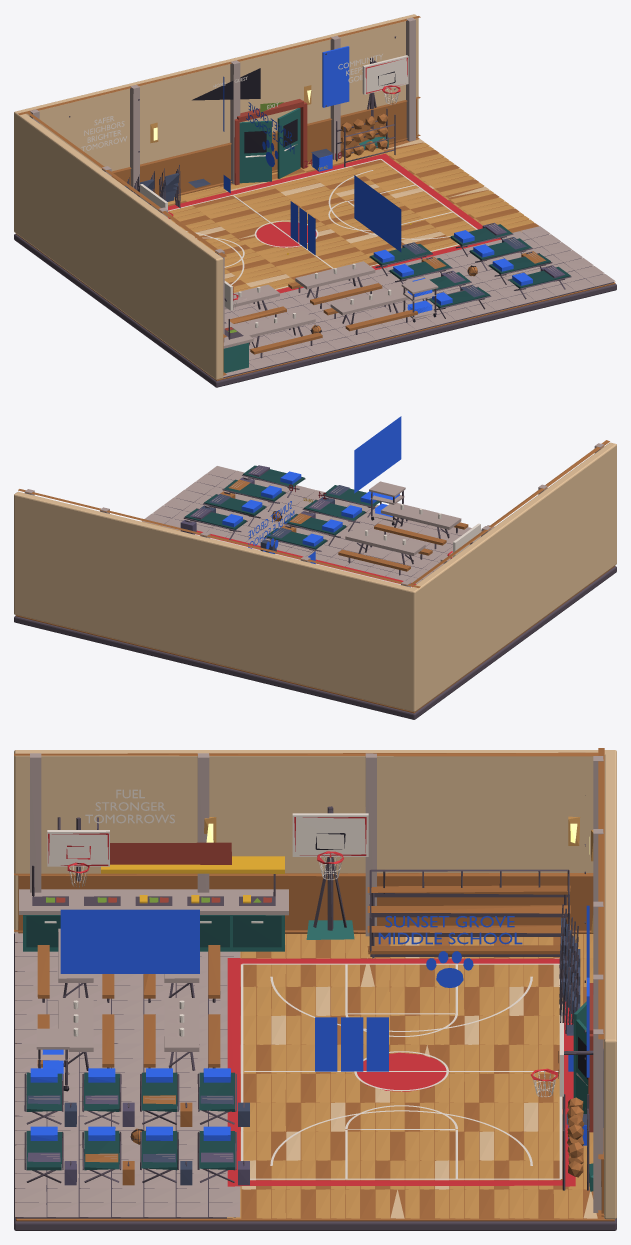
File: int.gym-cafeteria.lod1.glb
The picture shows the model from 3 angles, top to bottom: view 1: azimuth 30°, elevation 25°; view 2: azimuth 150°, elevation 25°; view 3: azimuth 270°, elevation 25°; orthographic projection. The views are drawn at different scales.
Parts seen in each view (by area): view 1: interior, door_entry_0, door_entry_1; view 2: interior; view 3: interior, door_entry_1.
Part boxes in pixels (x1,y1,x2,y2): interior: [14, 14, 616, 387]; door_entry_0: [239, 120, 271, 183]; door_entry_1: [277, 108, 300, 178]; interior: [14, 416, 616, 719]; interior: [14, 748, 616, 1230]; door_entry_1: [576, 1019, 588, 1113].
Size of the model in its own units: 16 by 4.94 by 14.
